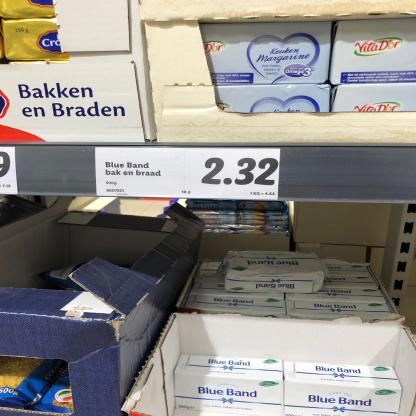prtg: (96, 148, 281, 201), (1, 148, 20, 195)
